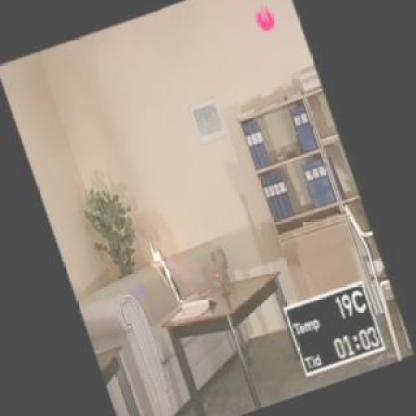Fire: (152, 244, 184, 302)
